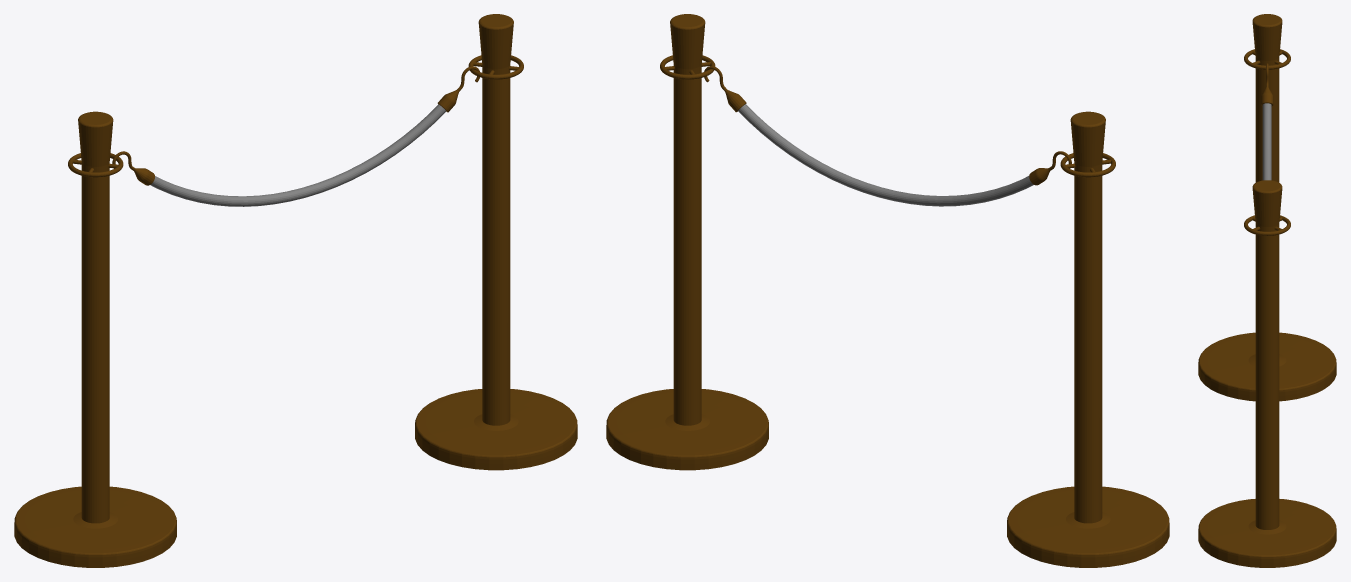
File: freepolygon (180).fbx.fbx
The picture shows the model from 3 angles, left to right: view 1: azimuth 30°, elevation 25°; view 2: azimuth 150°, elevation 25°; view 3: azimuth 270°, elevation 25°; orthographic projection. The views are drawn at different scales.
Visible parts, largest first — view 1: freepolygon.com; view 2: freepolygon.com; view 3: freepolygon.com.
Part boxes in pixels (left/top/right/bottom): freepolygon.com: left=14, top=14, right=577, bottom=567; freepolygon.com: left=606, top=14, right=1169, bottom=567; freepolygon.com: left=1198, top=14, right=1336, bottom=567.
Size of the model in its own units: 53.5 by 39.22 by 13.91.
